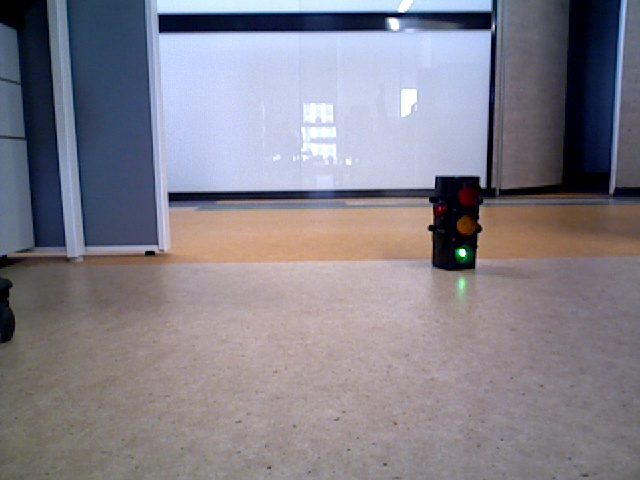green: (433, 178, 479, 264)
